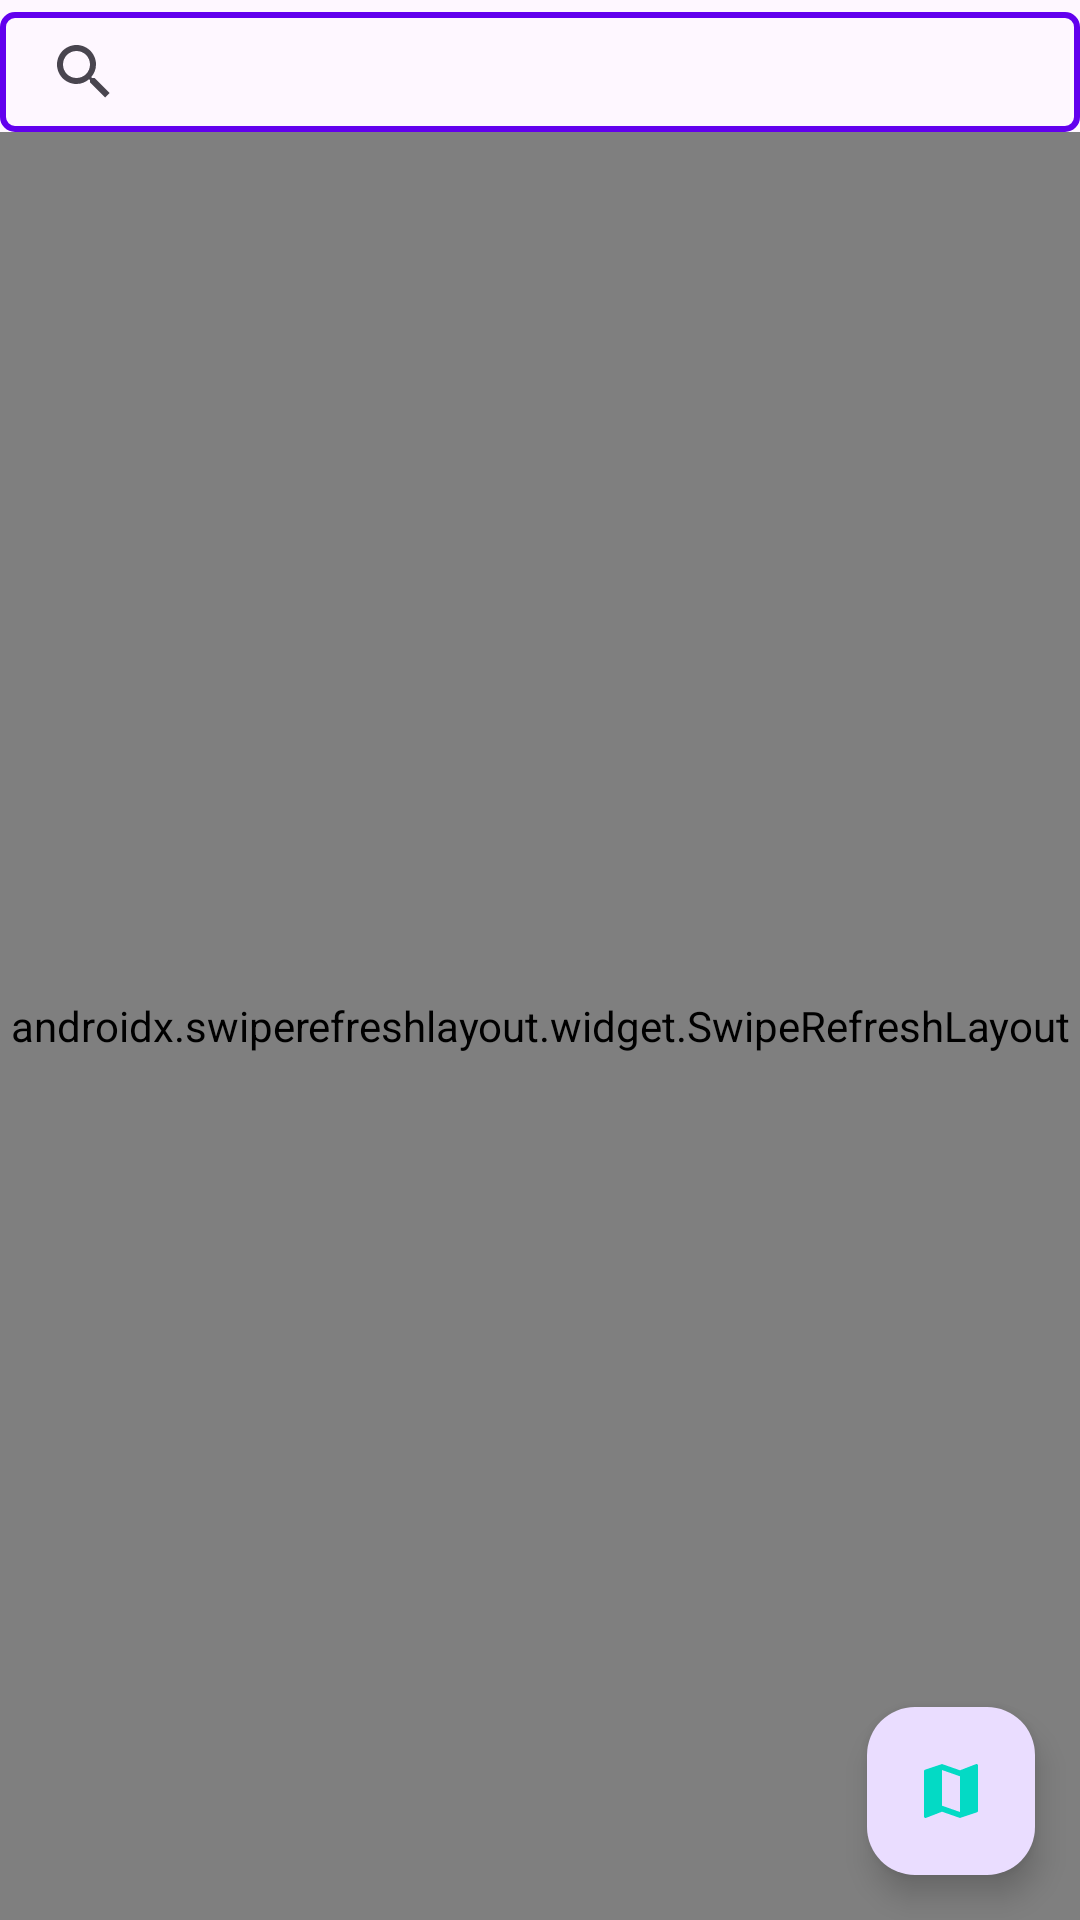

Icon click points for this 1080x1920 phone screenshot, format [x,y]:
map: [951,1791]
